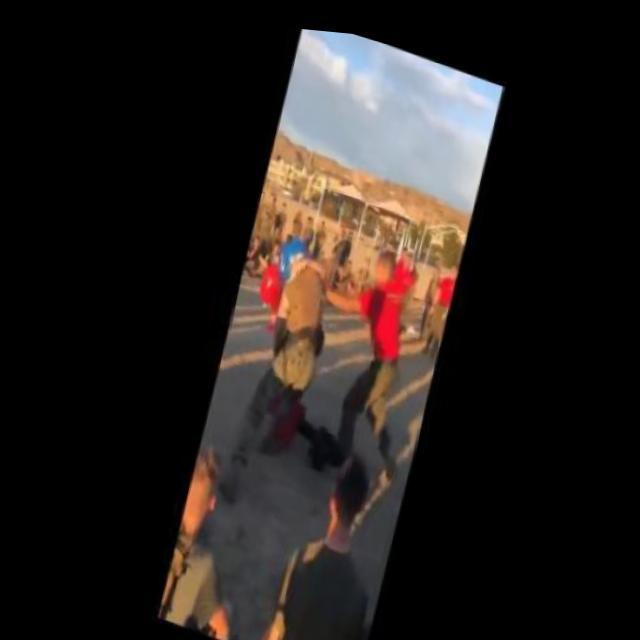fight: (211, 216, 353, 473)
